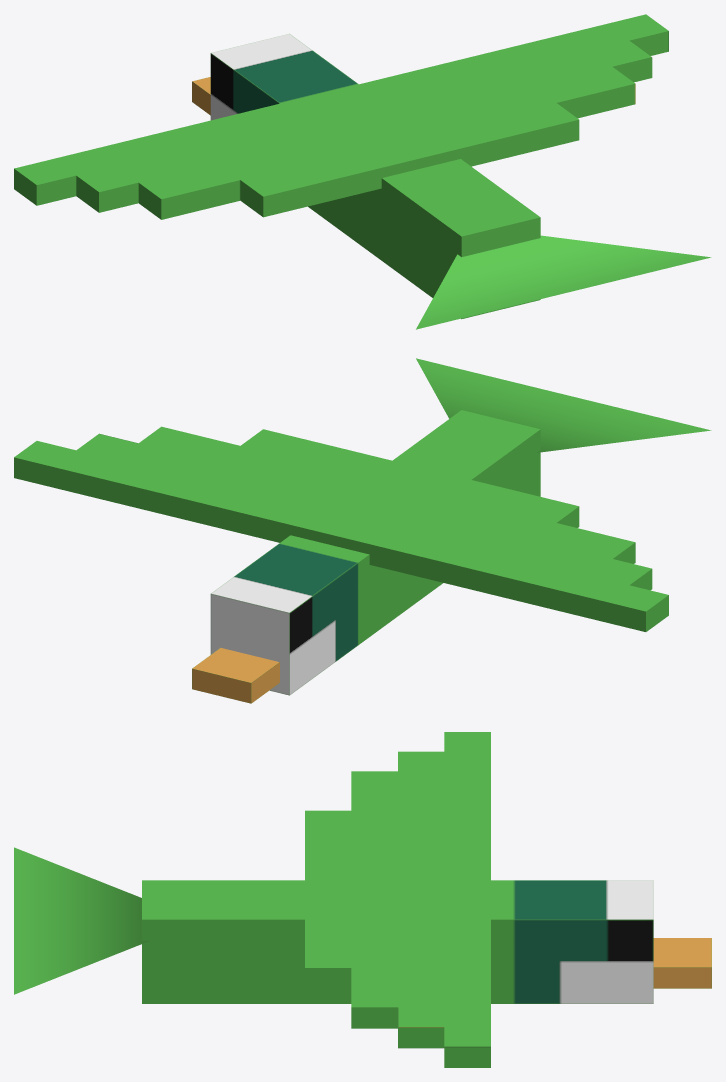
Rendered from Birb.fbx.
3 renders of one model, top to bottom at view 1: azimuth 30°, elevation 25°; view 2: azimuth 150°, elevation 25°; view 3: azimuth 270°, elevation 25°, orthographic. The views are drawn at different scales.
Visible parts, largest first — view 1: cuboid_1, cuboid, pyramid, cuboid_2; view 2: cuboid_1, cuboid, pyramid, cuboid_2; view 3: cuboid_1, cuboid, pyramid, cuboid_2.
Boxes of the visible parts, x1=… form: cuboid_1: x1=14, y1=14, x2=668, y2=219; cuboid: x1=210, y1=33, x2=540, y2=319; pyramid: x1=416, y1=235, x2=711, y2=329; cuboid_2: x1=192, y1=77, x2=210, y2=115; cuboid_1: x1=14, y1=426, x2=668, y2=631; cuboid: x1=210, y1=410, x2=540, y2=695; pyramid: x1=416, y1=358, x2=711, y2=452; cuboid_2: x1=192, y1=647, x2=279, y2=703; cuboid_1: x1=305, y1=732, x2=490, y2=1067; cuboid: x1=142, y1=880, x2=653, y2=1003; pyramid: x1=14, y1=847, x2=149, y2=994; cuboid_2: x1=653, y1=938, x2=711, y2=988.
Size of the model in its own units: 100 by 14.06 by 93.75.
1 material, 1 textured.
